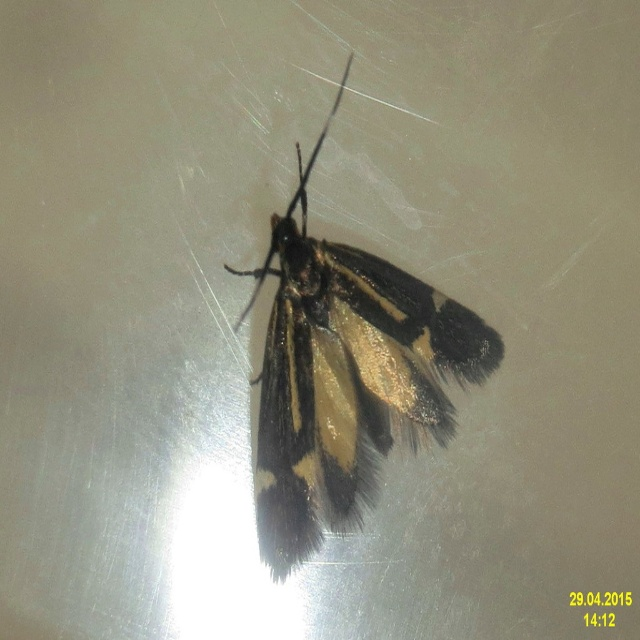Butterfly: (222, 54, 499, 579)
